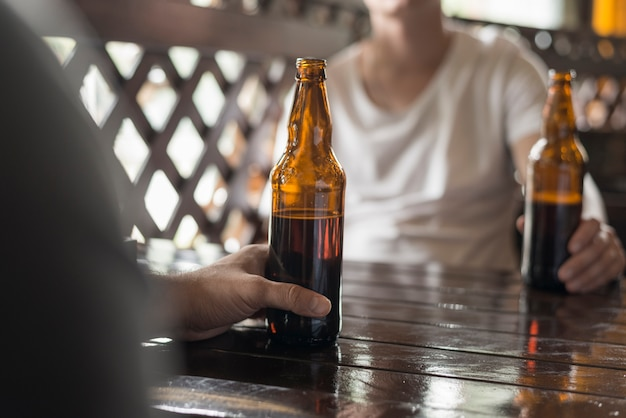alcohol: (268, 59, 345, 348), (523, 65, 588, 294)
